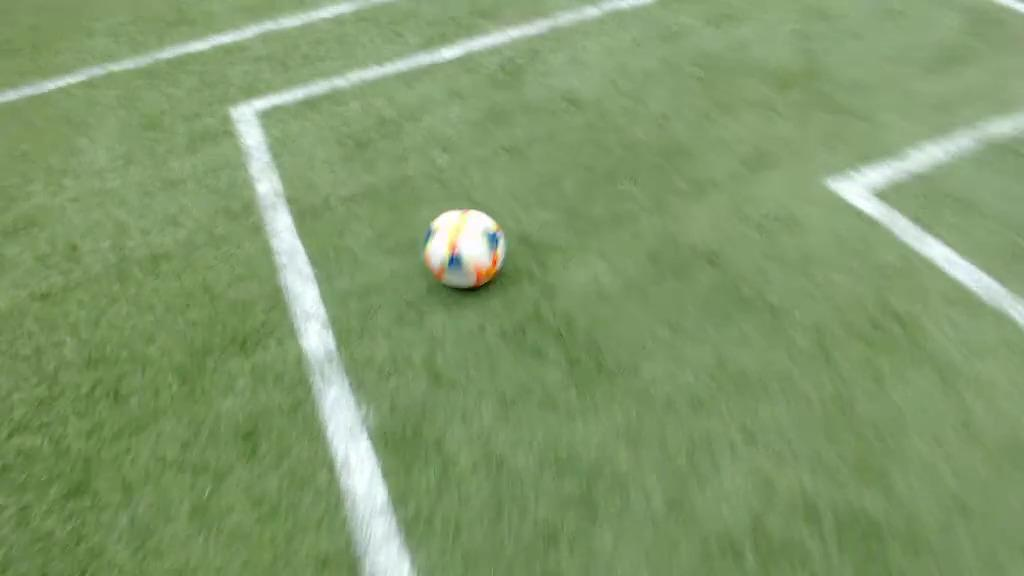ball: (424, 208, 505, 289)
